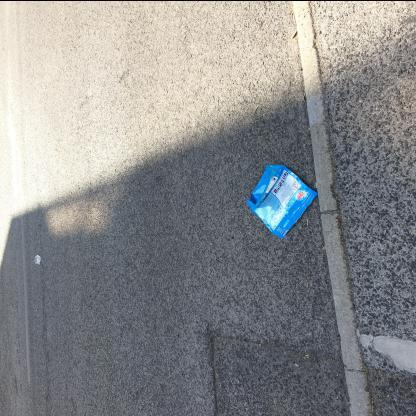plastik: (247, 164, 319, 239), (35, 255, 42, 265)
